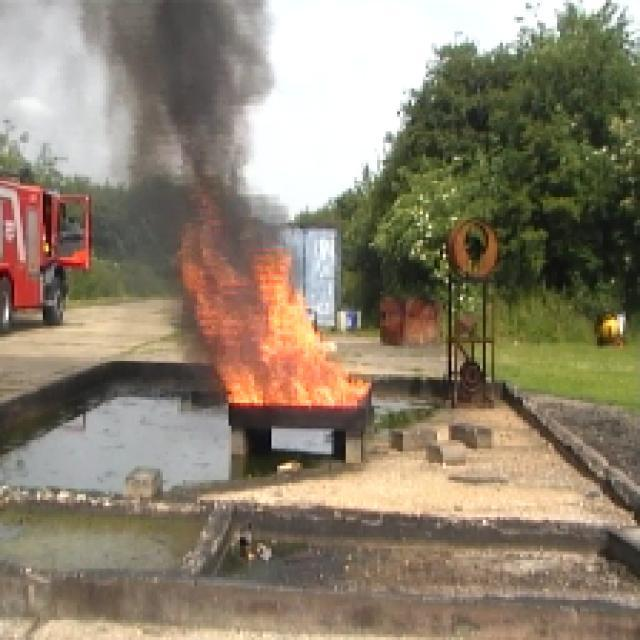Fire: (190, 266, 367, 404)
Smoke: (120, 19, 266, 230)
